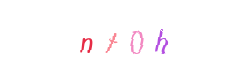0: (84, 0, 164, 80)
H: (121, 0, 201, 80)
N: (46, 0, 126, 80)
T: (84, 0, 164, 80)
